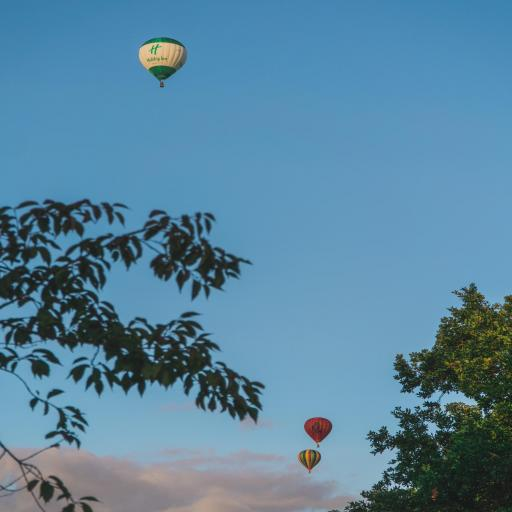hot air ballon: (134, 30, 188, 92), (303, 412, 334, 447), (296, 449, 326, 473)
